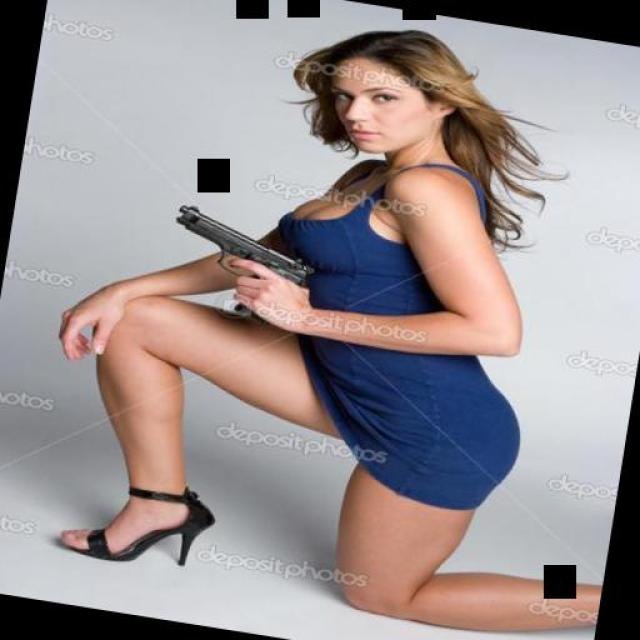gun: (144, 196, 320, 335)
